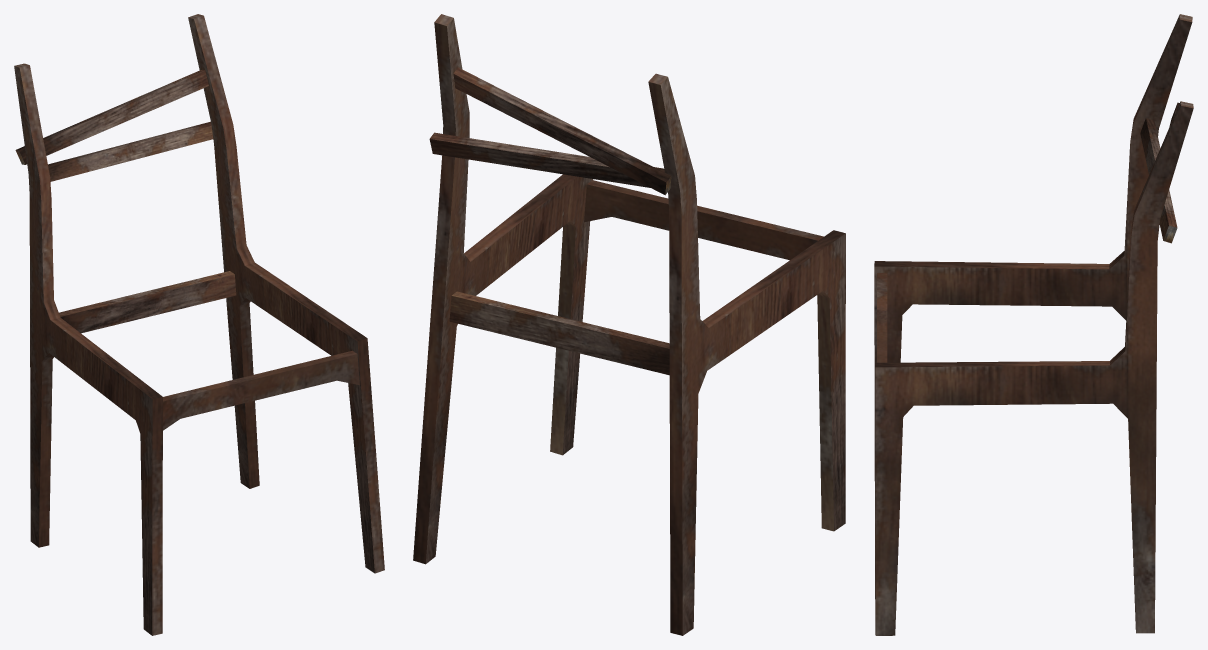
The model's file is chair_01.FBX.
3 renders of one model, left to right at view 1: azimuth 30°, elevation 25°; view 2: azimuth 150°, elevation 25°; view 3: azimuth 270°, elevation 25°, orthographic. The views are drawn at different scales.
Parts seen in each view (by area): view 1: chair.2; view 2: chair.2; view 3: chair.2.
Part boxes in pixels (bbox=[...]): chair.2: bbox=[14, 14, 384, 635]; chair.2: bbox=[413, 14, 845, 635]; chair.2: bbox=[874, 14, 1193, 635].
Size of the model in its own units: 0.5138 by 0.9949 by 0.5564.
1 material, 1 textured.
